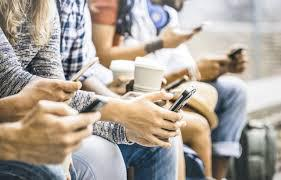Hand: (26, 102, 96, 161), (126, 96, 182, 146), (26, 79, 77, 113), (157, 28, 197, 49), (223, 51, 249, 74), (198, 61, 220, 81)
Smartphone: (70, 56, 99, 86), (171, 84, 195, 117), (74, 95, 107, 119), (158, 73, 192, 92), (224, 43, 246, 57), (192, 21, 206, 34)
